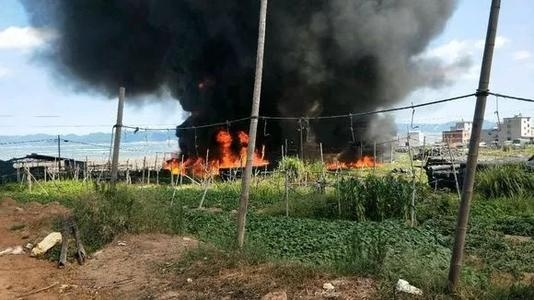fire: (167, 130, 269, 178), (326, 150, 383, 171)
